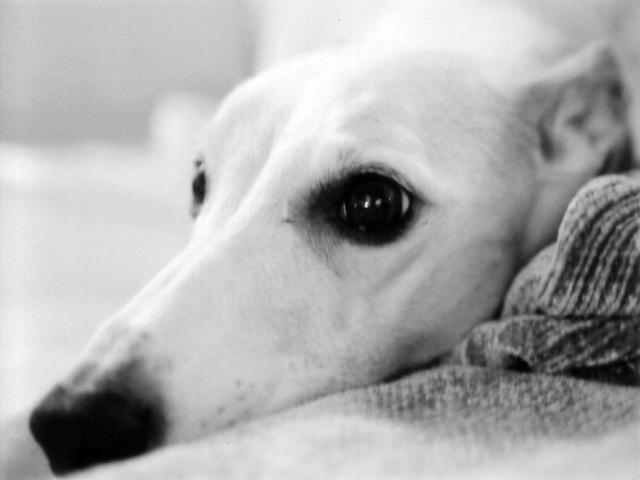Dog: (26, 0, 640, 477)
